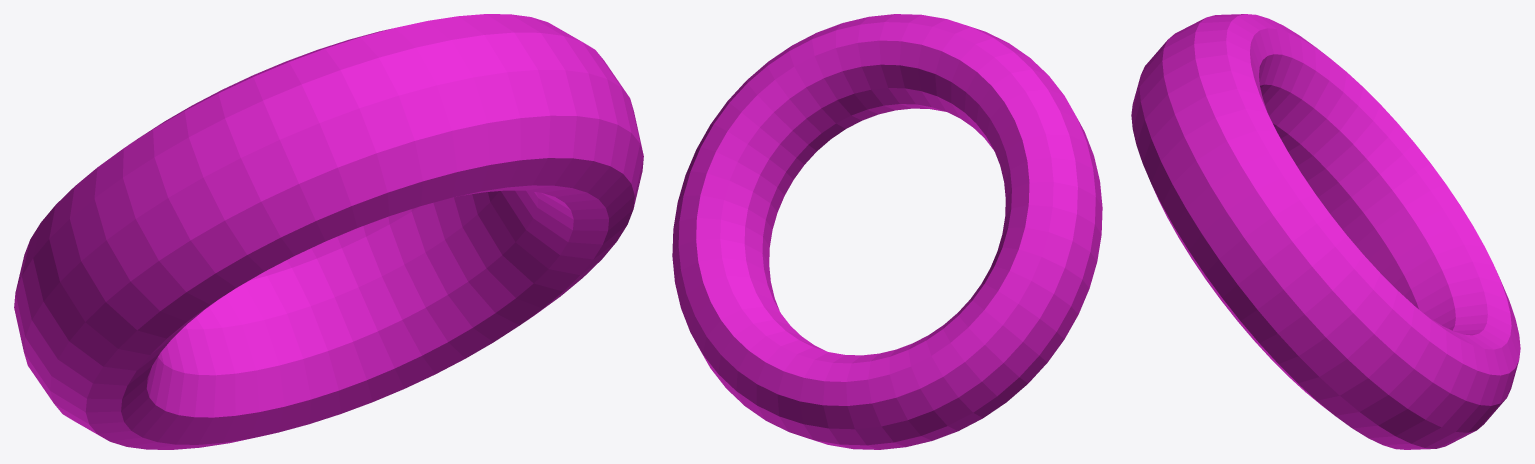
The model's file is donut2.glb.
The picture shows the model from 3 angles, left to right: view 1: azimuth 30°, elevation 25°; view 2: azimuth 150°, elevation 25°; view 3: azimuth 270°, elevation 25°; orthographic projection. The views are drawn at different scales.
Visible parts, largest first — view 1: Torus; view 2: Torus; view 3: Torus.
Part boxes in pixels (bbox=[...]): Torus: bbox=[14, 14, 643, 449]; Torus: bbox=[672, 14, 1102, 449]; Torus: bbox=[1131, 14, 1520, 449].
Size of the model in its own units: 2.5 by 2.11 by 1.95.
